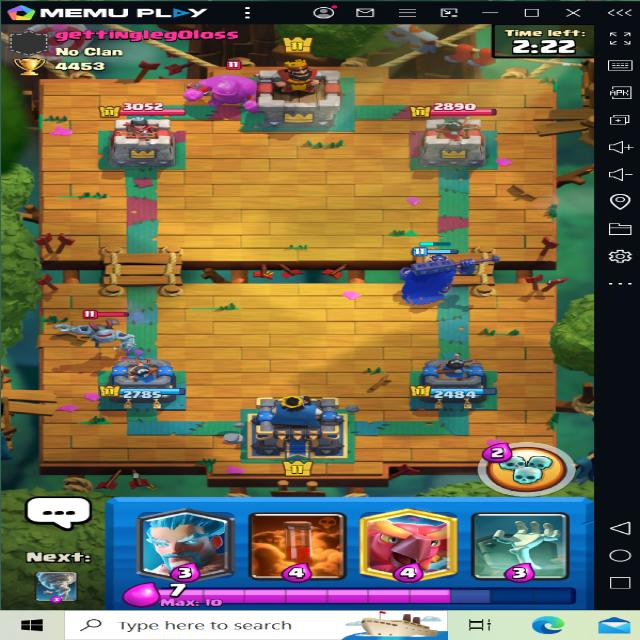Egolem: (172, 59, 264, 114)
Megaminion: (68, 296, 140, 354)
